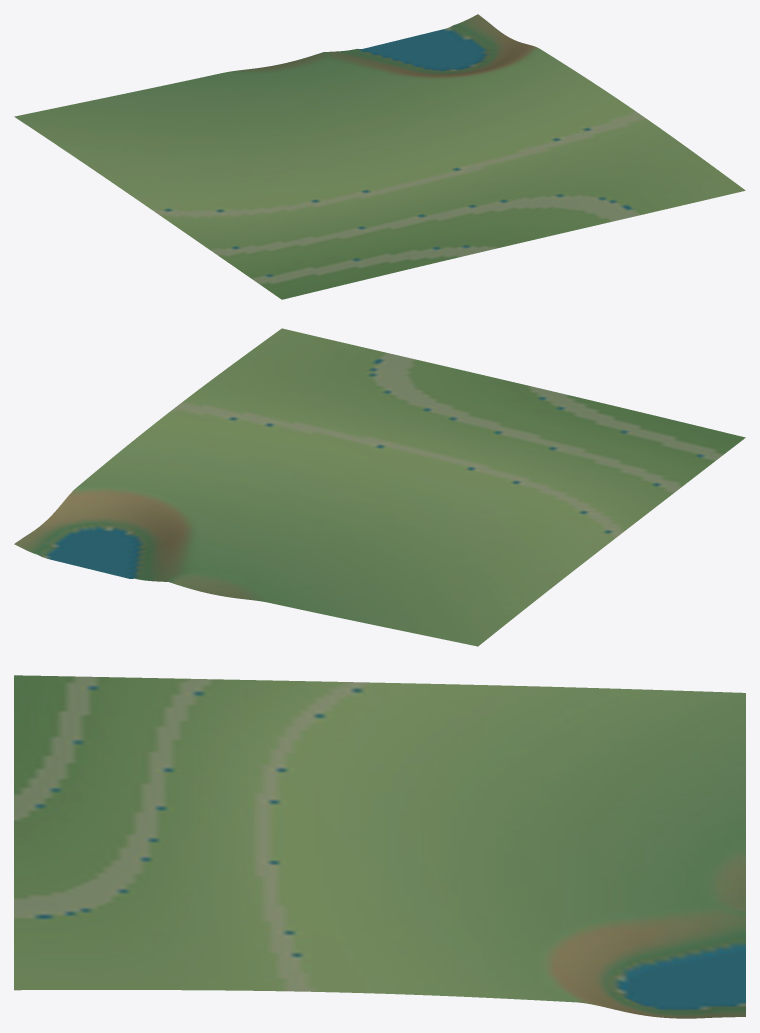
File: terrain_T_W01_S03.glb
The picture shows the model from 3 angles, top to bottom: view 1: azimuth 30°, elevation 25°; view 2: azimuth 150°, elevation 25°; view 3: azimuth 270°, elevation 25°; orthographic projection. The views are drawn at different scales.
Parts seen in each view (by area): view 1: Terrain_T_W01_S03; view 2: Terrain_T_W01_S03; view 3: Terrain_T_W01_S03.
Part boxes in pixels (bbox=[...]): Terrain_T_W01_S03: bbox=[14, 14, 745, 299]; Terrain_T_W01_S03: bbox=[14, 328, 745, 646]; Terrain_T_W01_S03: bbox=[14, 675, 745, 1018].
Size of the model in its own units: 2000 by 125 by 2000.
1 material, 1 textured.
